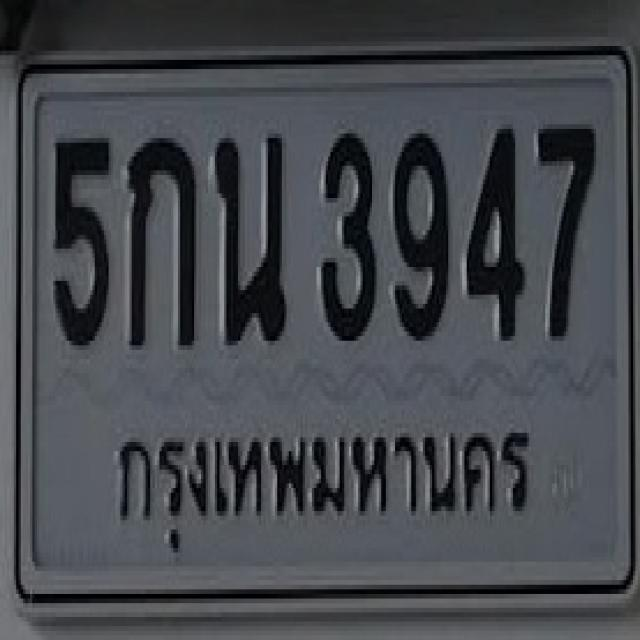license_plate: (12, 52, 640, 614)
